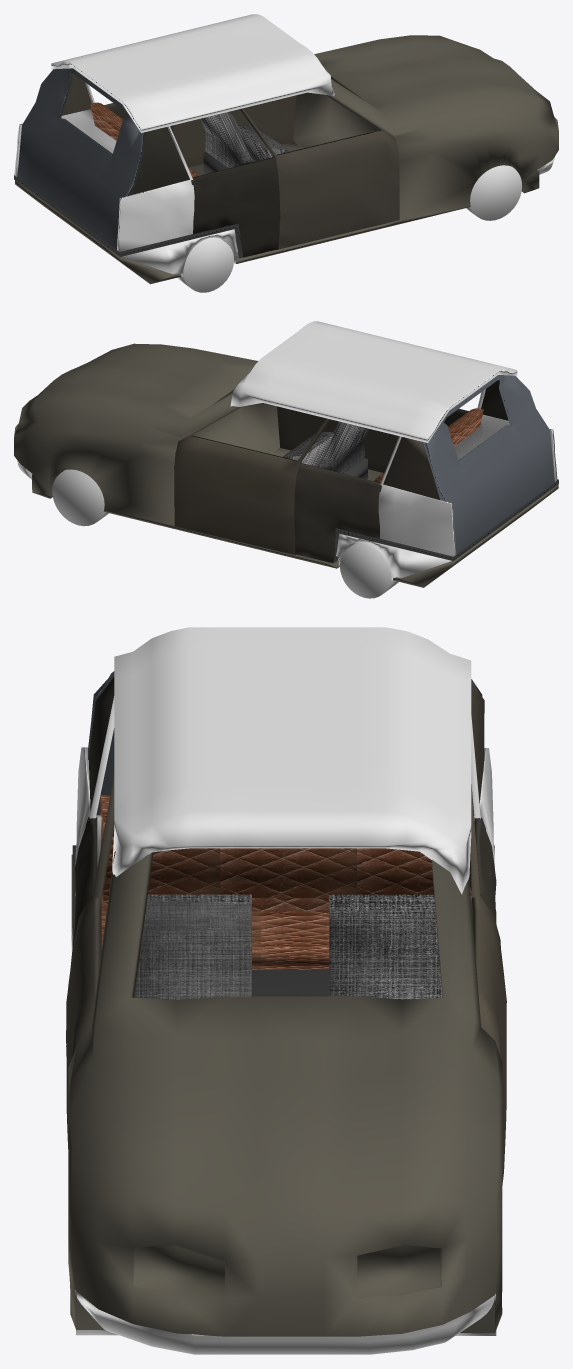
The model's file is avto3.glb.
3 renders of one model, top to bottom at view 1: azimuth 30°, elevation 25°; view 2: azimuth 150°, elevation 25°; view 3: azimuth 270°, elevation 25°, orthographic. The views are drawn at different scales.
Visible parts, largest first — view 1: Chassi, Top, Cube.003, Cube.007, Cube.010, Cube.013, Cube.009, Cube.014, Cylinder.001, Cylinder.004, Cube.019, Cylinder.002 (+5 smaller); view 2: Chassi, Top, Cube.003, Cube.009, Cube.001, Cube.012, Cube.007, Cylinder, Cylinder.003, Cube.011, Cube.018, Cylinder.002 (+5 smaller); view 3: Chassi, Top, Cube.015, Cube.018, Cube.019, Cube.004, Cube.007, Cube.009, Cube.002, Cube.013, Cube.010, Cube.012 (+4 smaller).
Boxes of the visible parts, box(x1,y1,x2,y2) form: Chassi: box(15, 35, 558, 284); Top: box(51, 14, 334, 132); Cube.003: box(17, 68, 145, 249); Cube.007: box(239, 108, 399, 249); Cube.010: box(191, 157, 280, 257); Cube.013: box(117, 126, 194, 251); Cube.009: box(172, 95, 296, 167); Cube.014: box(133, 127, 189, 194); Cylinder.001: box(466, 165, 521, 220); Cylinder.004: box(177, 237, 233, 292); Cube.019: box(200, 112, 289, 168); Cylinder.002: box(122, 229, 238, 276); Chassi: box(14, 343, 558, 587); Top: box(230, 321, 517, 442); Cube.003: box(422, 375, 554, 554); Cube.009: box(174, 418, 330, 555); Cube.001: box(294, 463, 381, 563); Cube.012: box(378, 422, 483, 556); Cube.007: box(277, 406, 398, 472); Cylinder: box(52, 469, 108, 526); Cylinder.003: box(340, 542, 398, 598); Cube.011: box(383, 437, 439, 499); Cube.018: box(283, 421, 369, 473); Cylinder.002: box(336, 533, 451, 580); Chassi: box(68, 851, 502, 1336); Top: box(112, 627, 471, 894); Cube.015: box(100, 795, 471, 969); Cube.018: box(134, 894, 251, 999); Cube.019: box(329, 894, 442, 999); Cube.004: box(74, 1290, 495, 1354); Cube.007: box(66, 774, 114, 1148); Cube.009: box(469, 785, 506, 1184); Cube.002: box(72, 845, 494, 996); Cube.013: box(75, 696, 114, 895); Cube.010: box(66, 817, 97, 1042); Cube.012: box(96, 715, 494, 892).
Bounding box in the file's own units: 14.72 × 5.66 × 6.05.
Materials: 20 (3 with a texture image).
